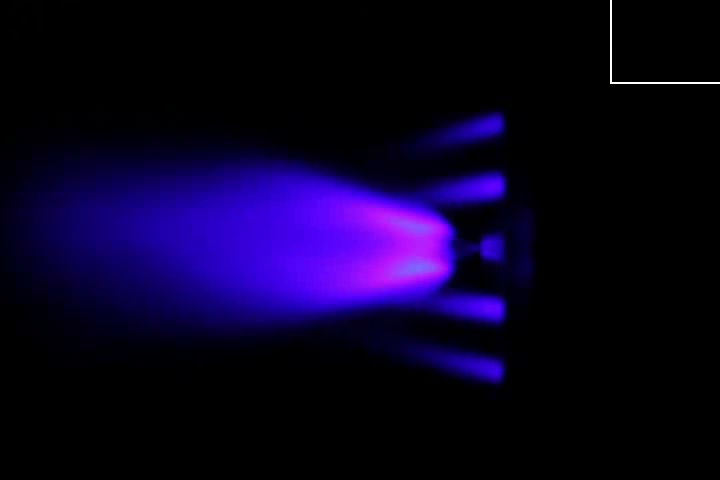burner cap: (481, 236, 507, 261)
pilot flame: (383, 339, 502, 383), (402, 102, 504, 149), (409, 284, 504, 324), (401, 171, 507, 206)
unstable: (323, 191, 484, 298)
